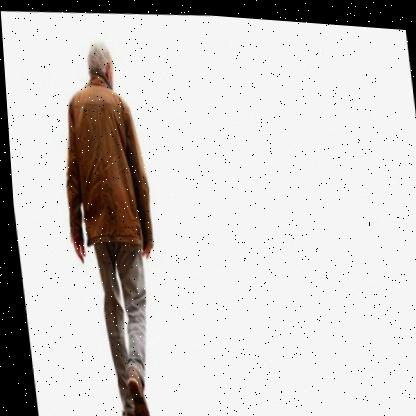person: (32, 27, 189, 416)
